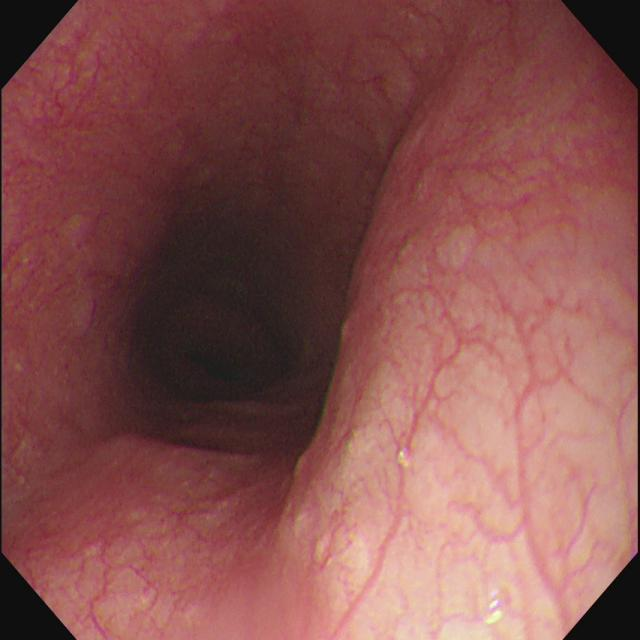E: (114, 211, 344, 448)
